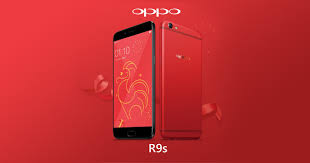oppo: (106, 21, 158, 141), (160, 21, 206, 142)
